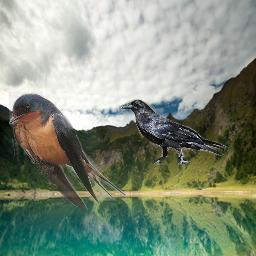Crow: (119, 99, 230, 167)
Swallow: (9, 92, 125, 210)
